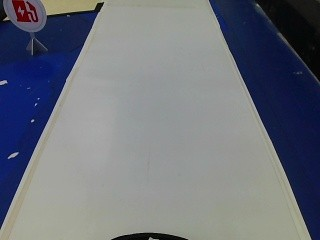battery: (2, 0, 49, 33)
